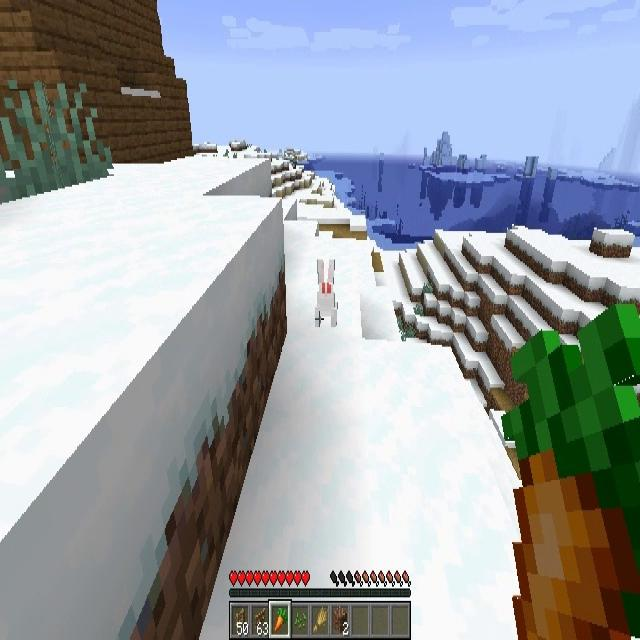duck: (316, 258, 338, 328)
